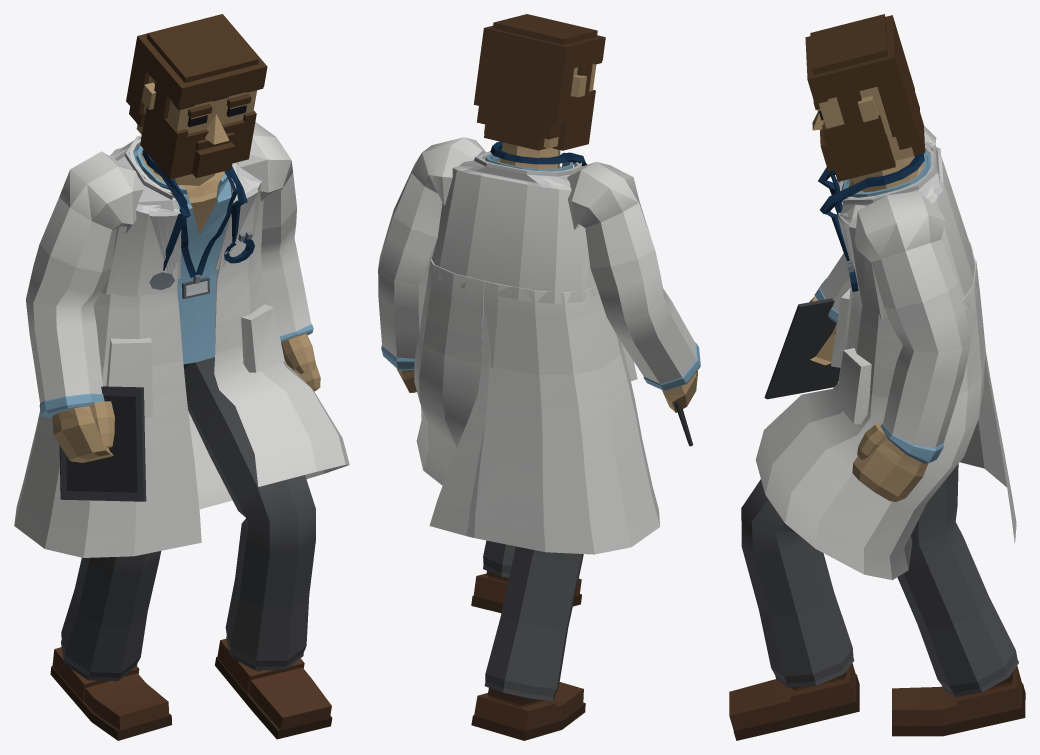
File: doctor-d49de0__walk7.glb
3 views of the same model, side by side, from view 1: azimuth 30°, elevation 25°; view 2: azimuth 150°, elevation 25°; view 3: azimuth 270°, elevation 25° (orthographic). The views are drawn at different scales.
Visible parts, largest first — view 1: doctor-d49de0__walk7; view 2: doctor-d49de0__walk7; view 3: doctor-d49de0__walk7.
Boxes of the visible parts, x1,y1,x2,y2 form: doctor-d49de0__walk7: (14, 14, 349, 740); doctor-d49de0__walk7: (378, 14, 700, 740); doctor-d49de0__walk7: (729, 14, 1025, 740).
Bounding box in the file's own units: 0.7714 × 1.73 × 0.6517.
